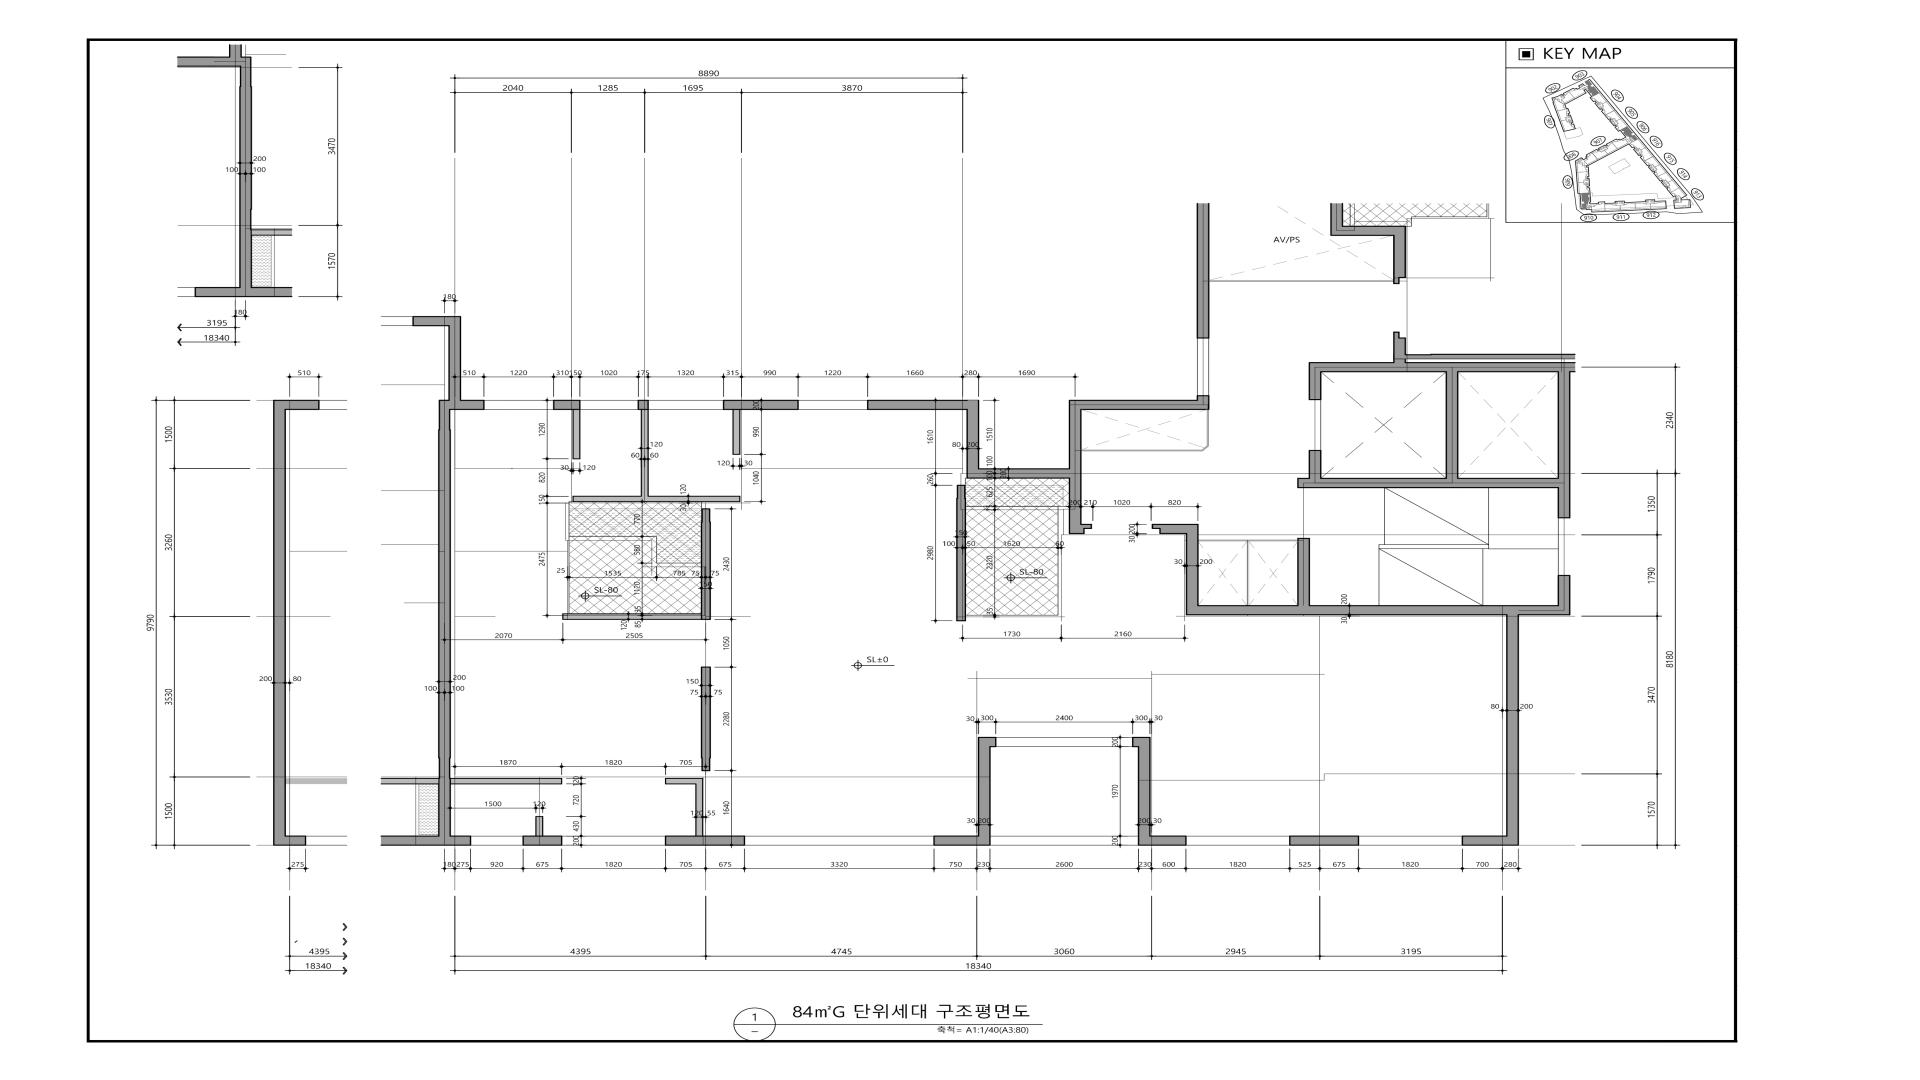wall: (273, 400, 286, 836), (438, 429, 451, 758), (1186, 605, 1570, 615), (1506, 615, 1519, 835), (1309, 362, 1576, 372), (1297, 478, 1558, 488), (1196, 203, 1210, 339), (1558, 372, 1570, 518), (239, 86, 252, 210), (1069, 410, 1082, 524), (1138, 737, 1151, 846), (1069, 400, 1209, 410), (1446, 372, 1459, 478), (978, 737, 991, 836), (956, 498, 966, 621), (1186, 524, 1199, 605), (966, 400, 979, 479), (573, 496, 740, 502), (380, 835, 471, 846), (867, 400, 966, 410), (979, 468, 1069, 479), (195, 287, 293, 297), (701, 522, 711, 620), (562, 613, 701, 620), (448, 326, 461, 400), (701, 667, 711, 759), (1297, 538, 1310, 605), (1406, 354, 1575, 359), (177, 56, 252, 67), (665, 836, 745, 846), (451, 778, 562, 785), (1289, 835, 1359, 846), (723, 400, 799, 410), (239, 229, 252, 287), (438, 778, 451, 835), (641, 410, 649, 496), (1393, 226, 1406, 278), (933, 835, 991, 846), (1330, 226, 1393, 236), (1462, 835, 1519, 846), (412, 316, 461, 326), (695, 778, 703, 836), (439, 400, 485, 410), (522, 835, 563, 846), (572, 410, 581, 459), (732, 410, 741, 455), (1151, 835, 1187, 846), (1308, 450, 1322, 478), (1558, 575, 1571, 605), (1309, 372, 1322, 400), (273, 835, 306, 846), (381, 778, 438, 784), (286, 400, 320, 410), (1330, 203, 1343, 226), (1393, 337, 1406, 359), (252, 229, 292, 236), (553, 400, 581, 410), (1159, 524, 1186, 534), (438, 758, 451, 778), (239, 210, 252, 229), (239, 67, 252, 86), (665, 778, 695, 785), (439, 410, 450, 429), (229, 44, 242, 57), (535, 816, 543, 836), (1069, 524, 1085, 534), (701, 508, 711, 522), (957, 485, 966, 498), (638, 400, 649, 410), (701, 759, 710, 771), (1196, 395, 1210, 400), (991, 737, 997, 747), (1132, 737, 1138, 747), (1393, 278, 1400, 284), (1393, 359, 1406, 362), (1085, 524, 1092, 529), (1152, 524, 1159, 529), (1393, 332, 1400, 337)
